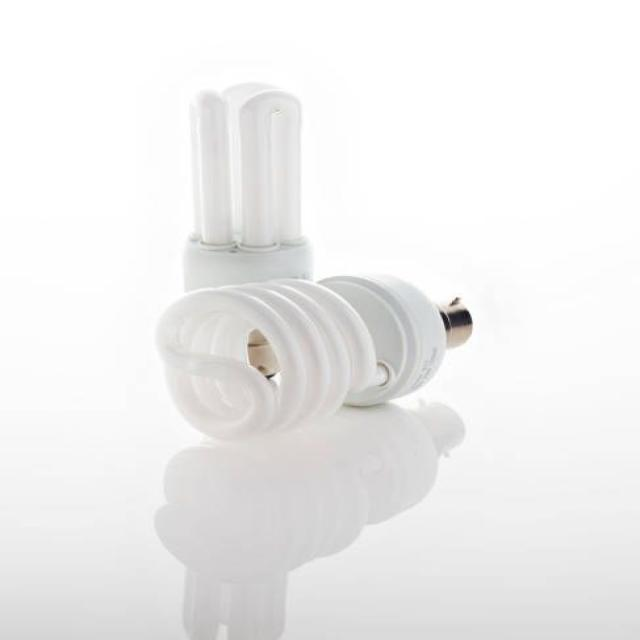electronic: (150, 80, 474, 639), (152, 396, 466, 639), (154, 270, 472, 440), (180, 79, 315, 292)
